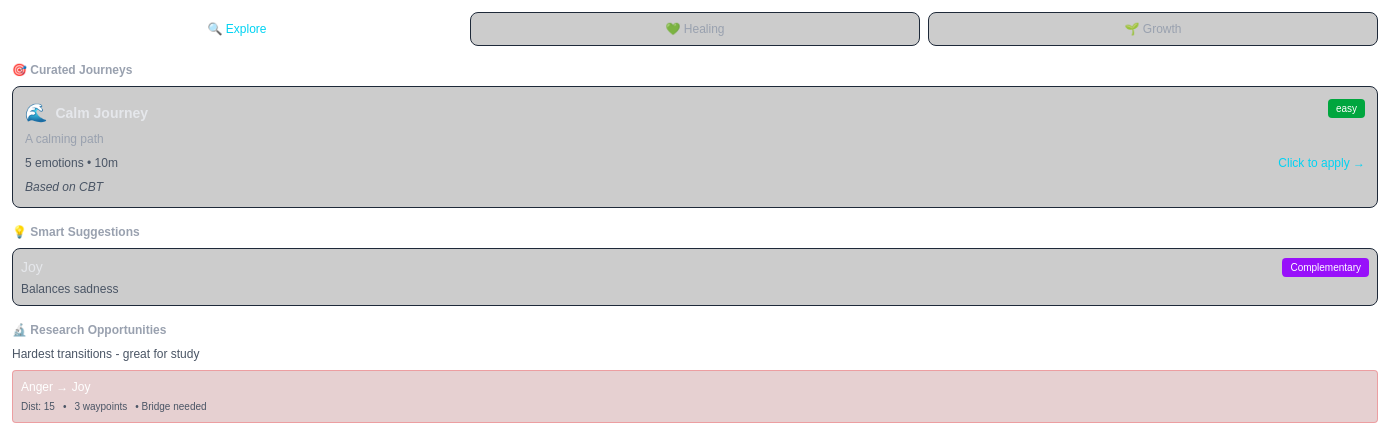
Test: SmartRecommendations › switches context to all types
Expected: the heading "Calm Journey" is shown, [56, 103, 148, 123]
Note: Switch to Healing
Step 1. Click the button "💚 Healing" → {"x": 695, "y": 29}, box [470, 12, 920, 46]
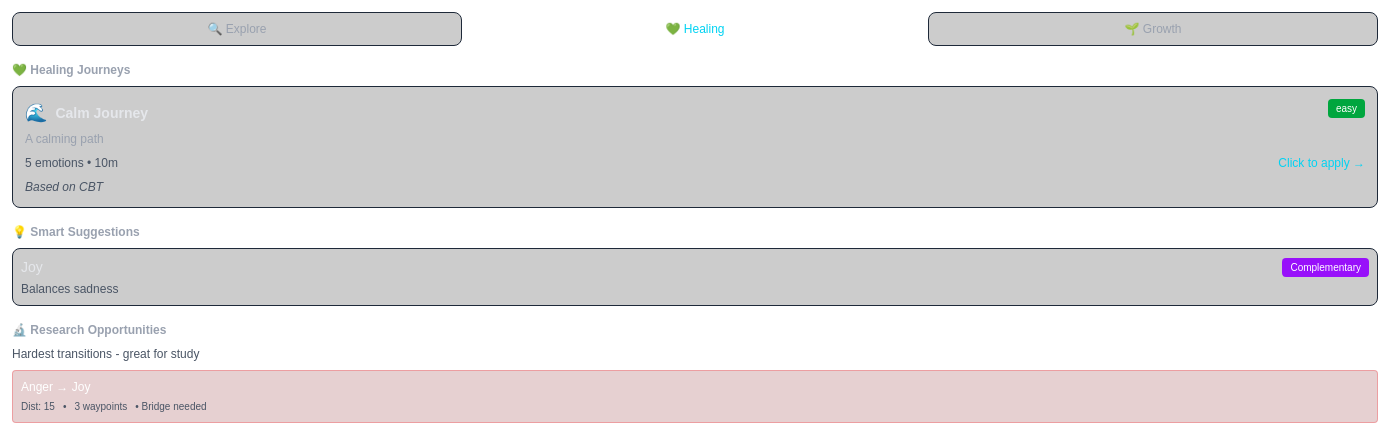
Note: Switch to Growth
Step 2. Click the button "🌱 Growth" → {"x": 1153, "y": 29}, box [928, 12, 1378, 46]
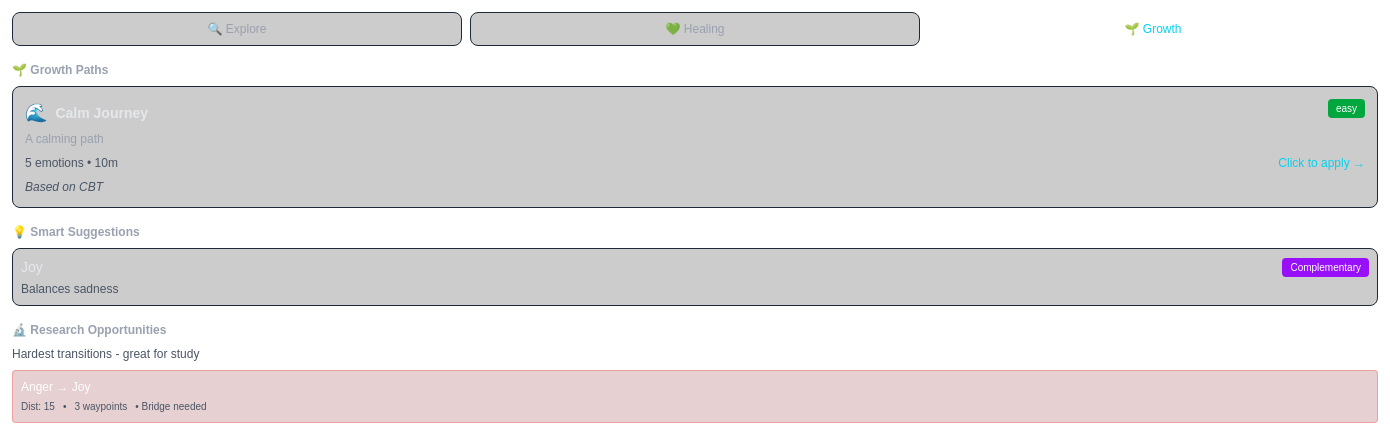
Expected: the heading "🌱 Growth Paths" is shown, [12, 63, 108, 77]
Note: Switch back to Exploration
Step 3. Click the button "🔍 Explore" → {"x": 237, "y": 29}, box [12, 12, 462, 46]
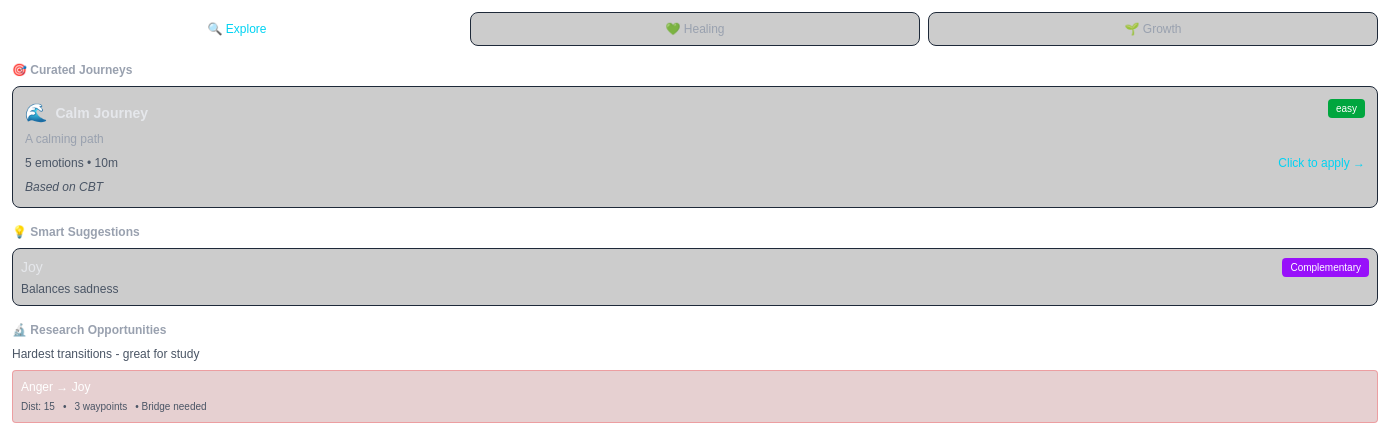
Expected: the heading "🎯 Curated Journeys" is shown, [12, 63, 132, 77]
